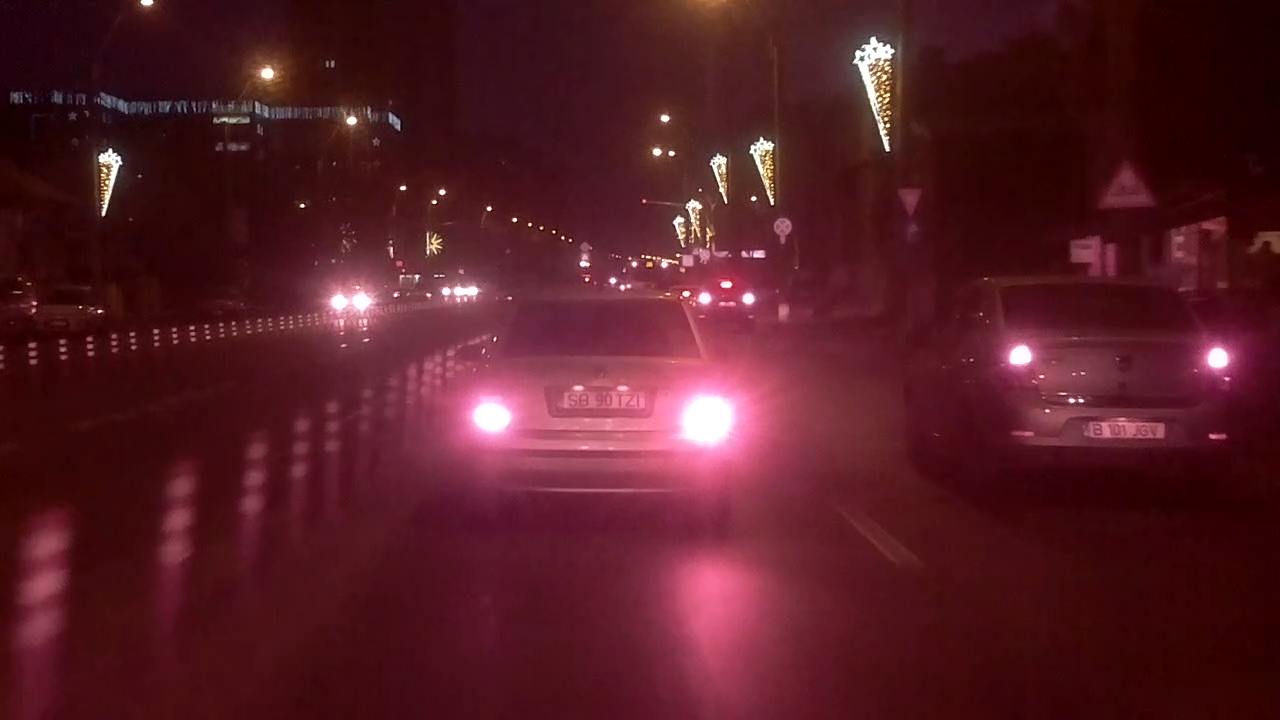license-plate: (551, 388, 649, 411), (1080, 419, 1169, 441)
